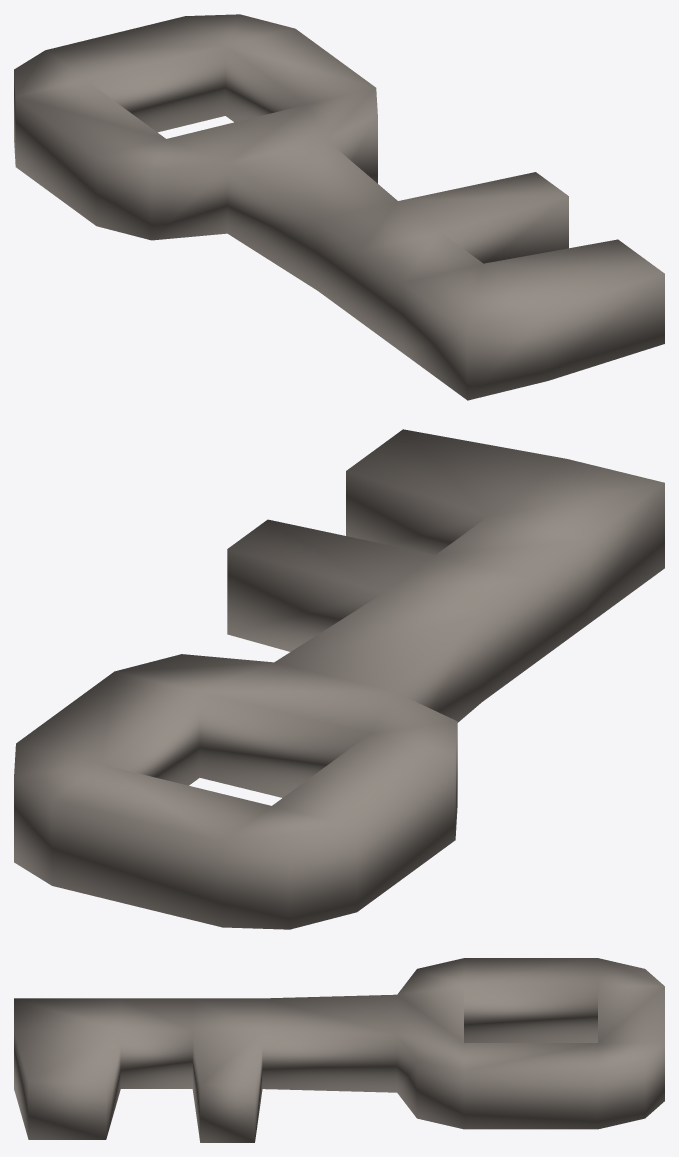
The model's file is key_silver.fbx.
The picture shows the model from 3 angles, top to bottom: view 1: azimuth 30°, elevation 25°; view 2: azimuth 150°, elevation 25°; view 3: azimuth 270°, elevation 25°; orthographic projection. The views are drawn at different scales.
Parts seen in each view (by area): view 1: key_silver; view 2: key_silver; view 3: key_silver.
Boxes of the visible parts, <box> form: key_silver: <box>14,14,664,400</box>; key_silver: <box>14,429,664,929</box>; key_silver: <box>14,958,664,1142</box>.
Bounding box in the file's own units: 0.1407 × 0.0301 × 0.3056.
